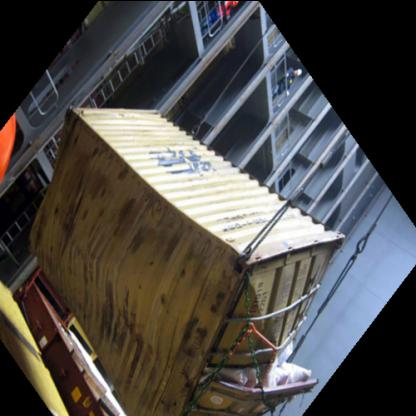Damage: (217, 314, 321, 404), (89, 282, 182, 378), (108, 202, 230, 274)
